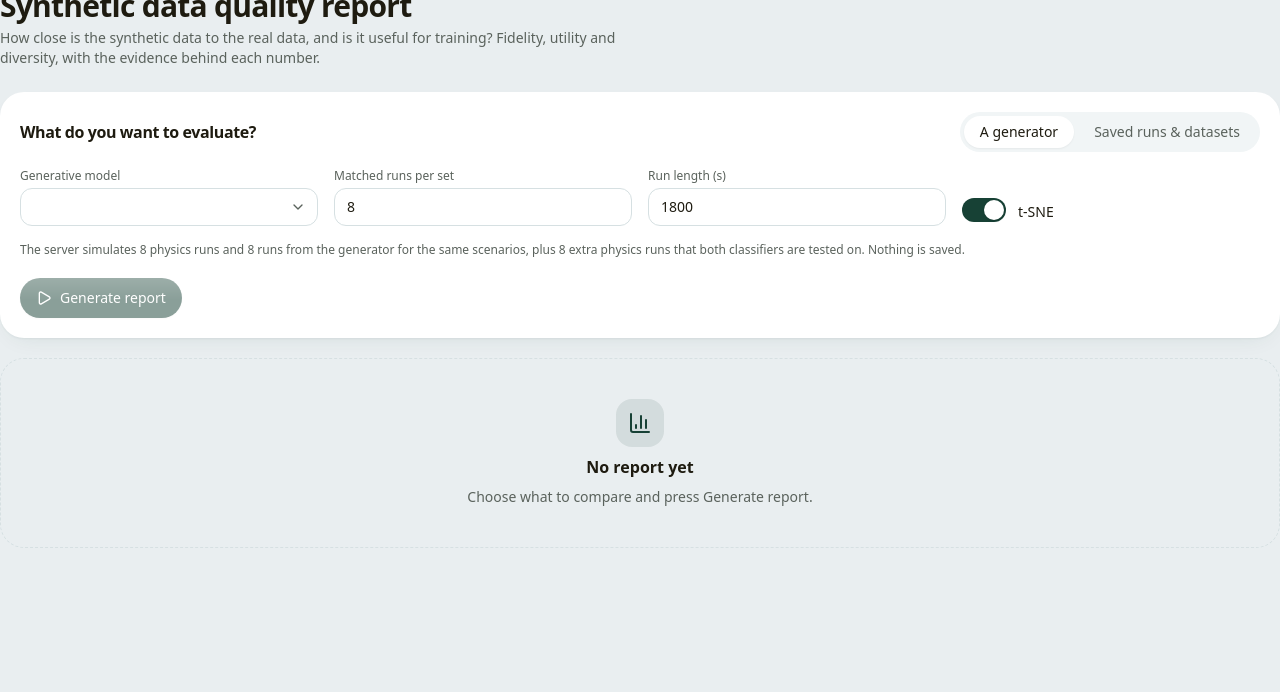
Test: Quality page › sources mode needs a real and a synthetic selection, then posts both lists
This screenshot has width=1280, height=692.
Click the tab "Saved runs & datasets": {"x": 1167, "y": 132} [1078,116,1256,148]
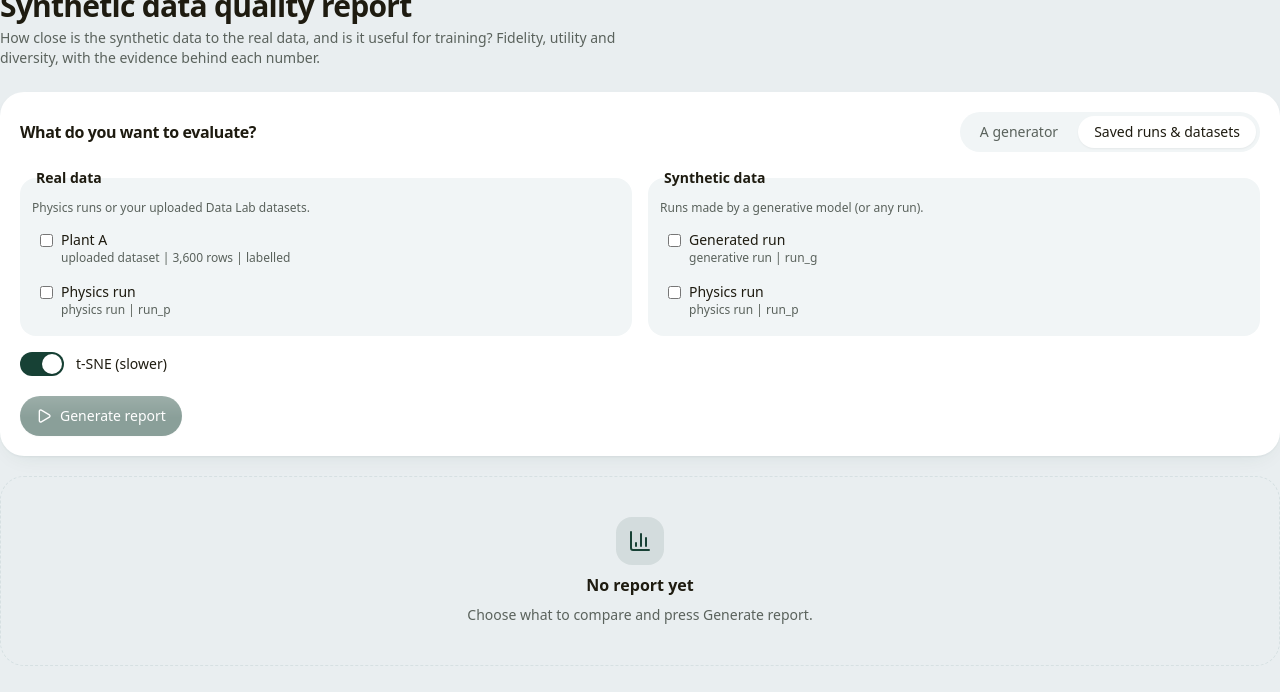
Expected: the button "Generate report" is disabled, [20,396,182,436]
Click the checkbox labelled "Plant A uploaded dataset | 3,600 rows | labelled": {"x": 46, "y": 240} [40,234,53,247]
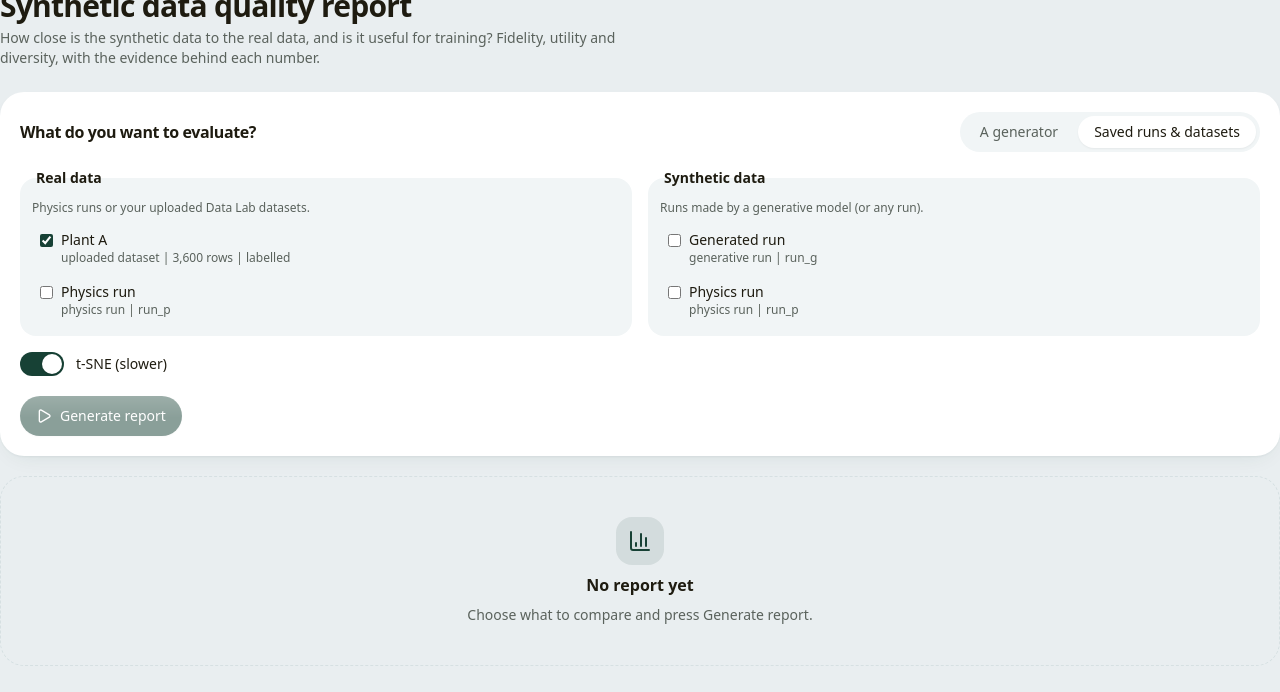
Click the checkbox labelled "Generated run generative run | run_g": {"x": 674, "y": 240} [668,234,681,247]
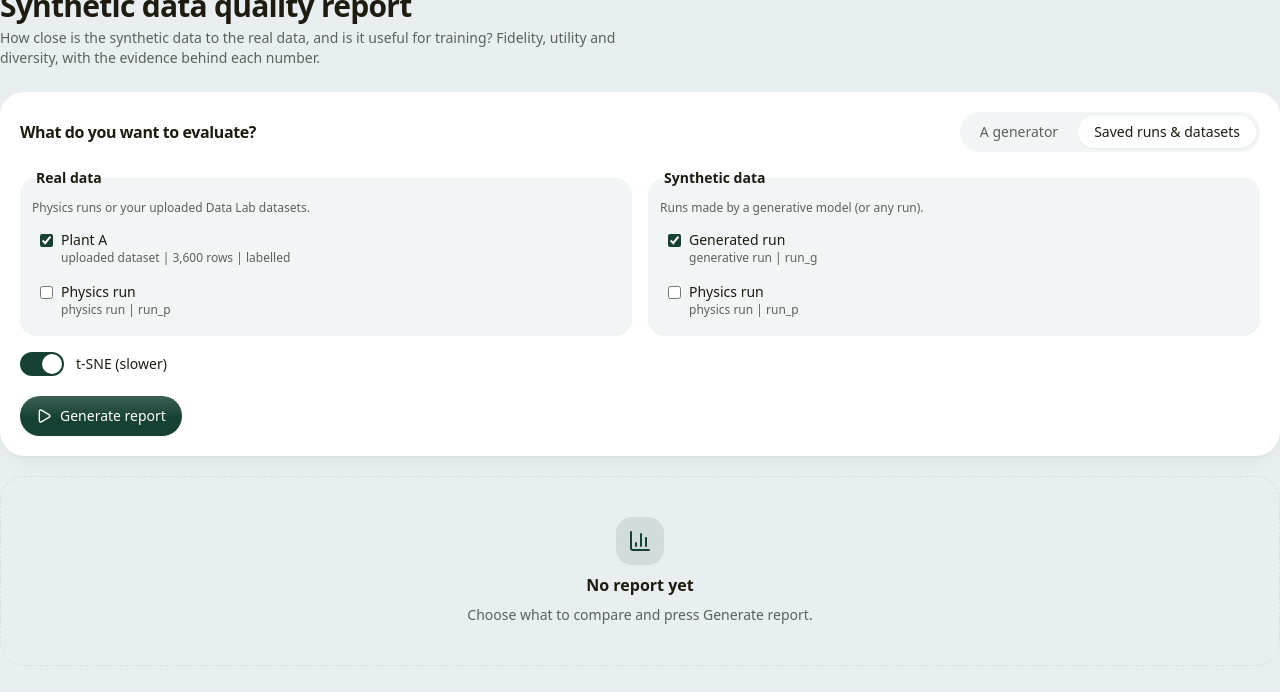
Result: the button "Generate report" is enabled
Click the button "Generate report": {"x": 101, "y": 416} [20,396,182,436]
(page scrolled)
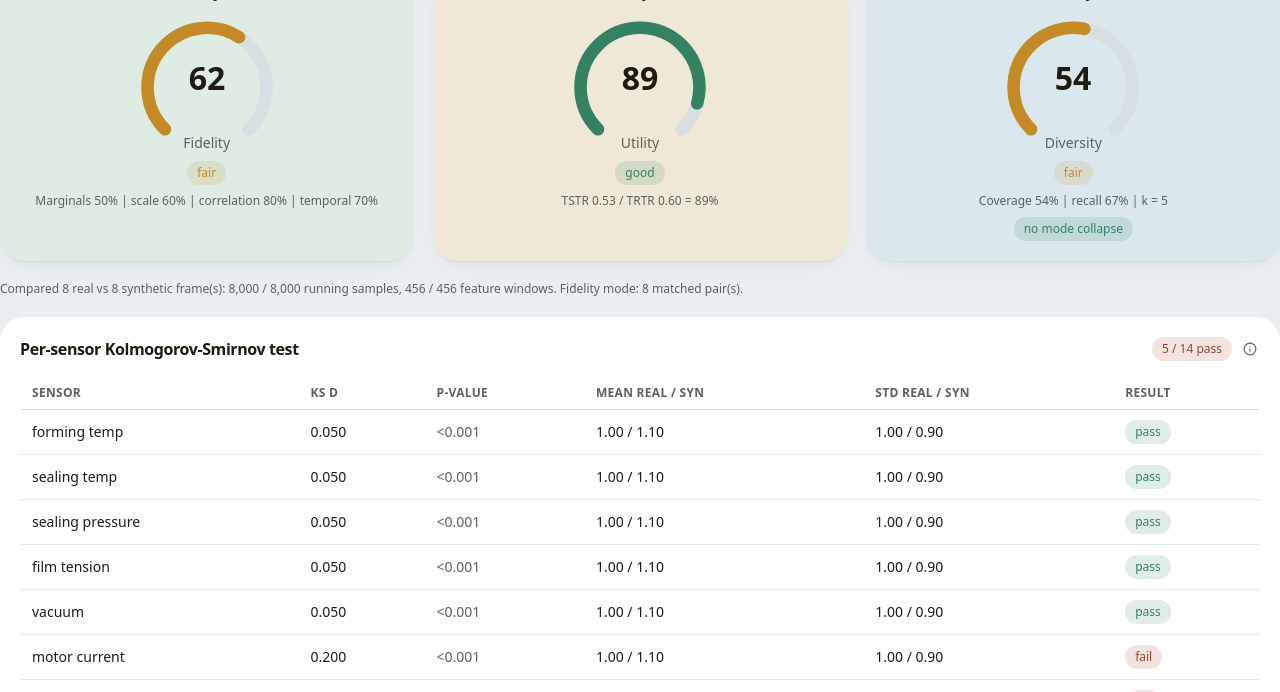
Result: the heading "Per-sensor Kolmogorov-Smirnov test" is shown at [20,337,299,361]
